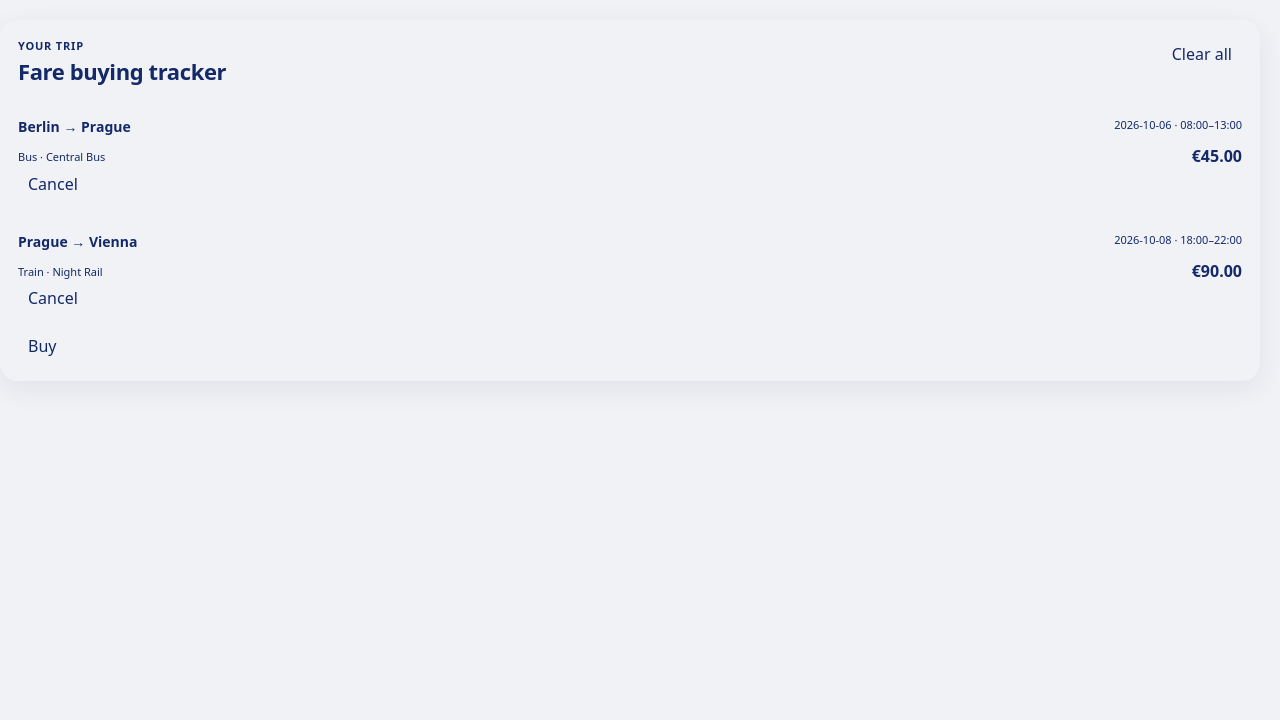
Test: planning tracker › opens an accessible confirmation and restores focus after Escape
The width and height of the screenshot is (1280, 720).
Click the button "Buy" at (42, 347), box [18,331,66,363]
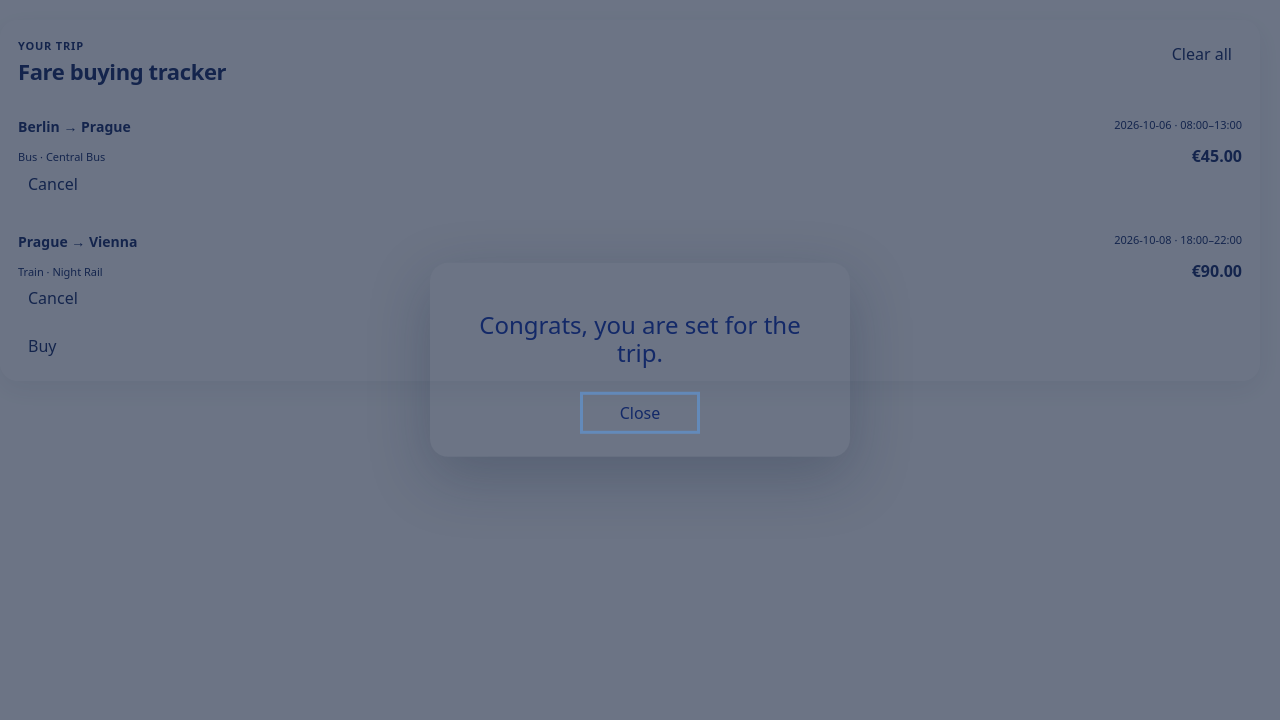
Now the dialog shows "Congrats, you are set for the trip.", box [479,308,801,369]
Press Escape
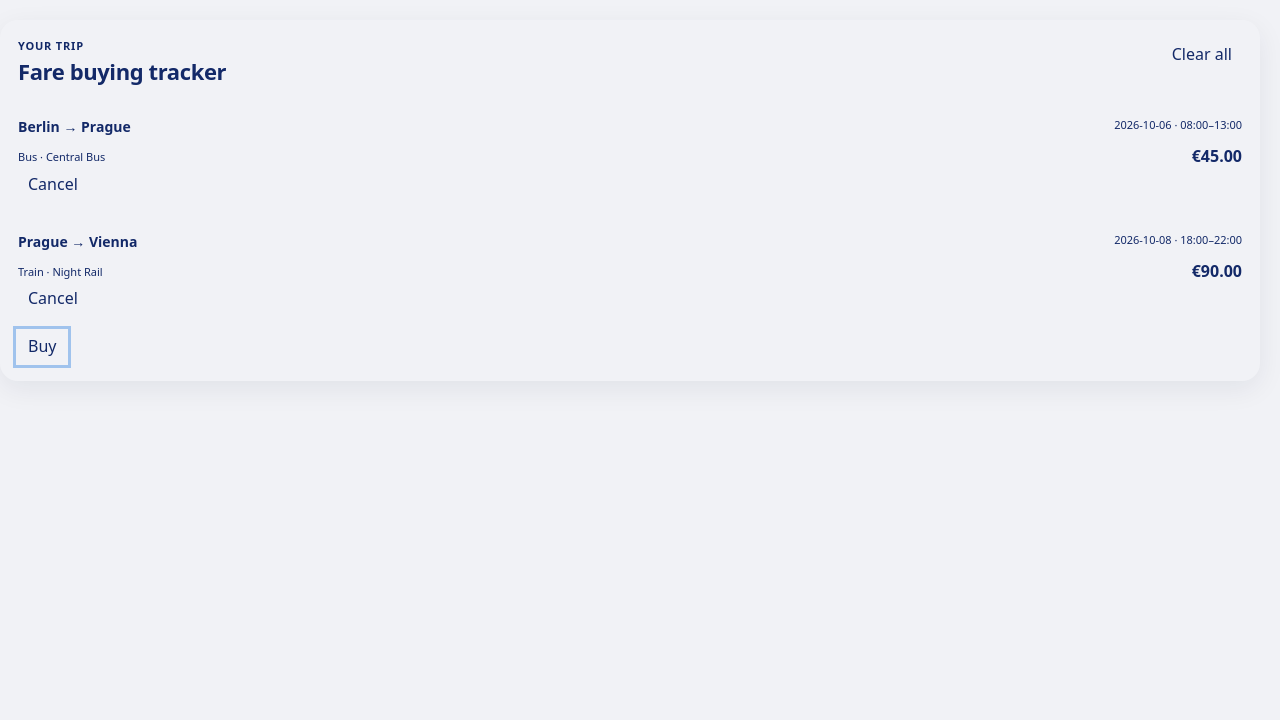
Now the dialog is gone
